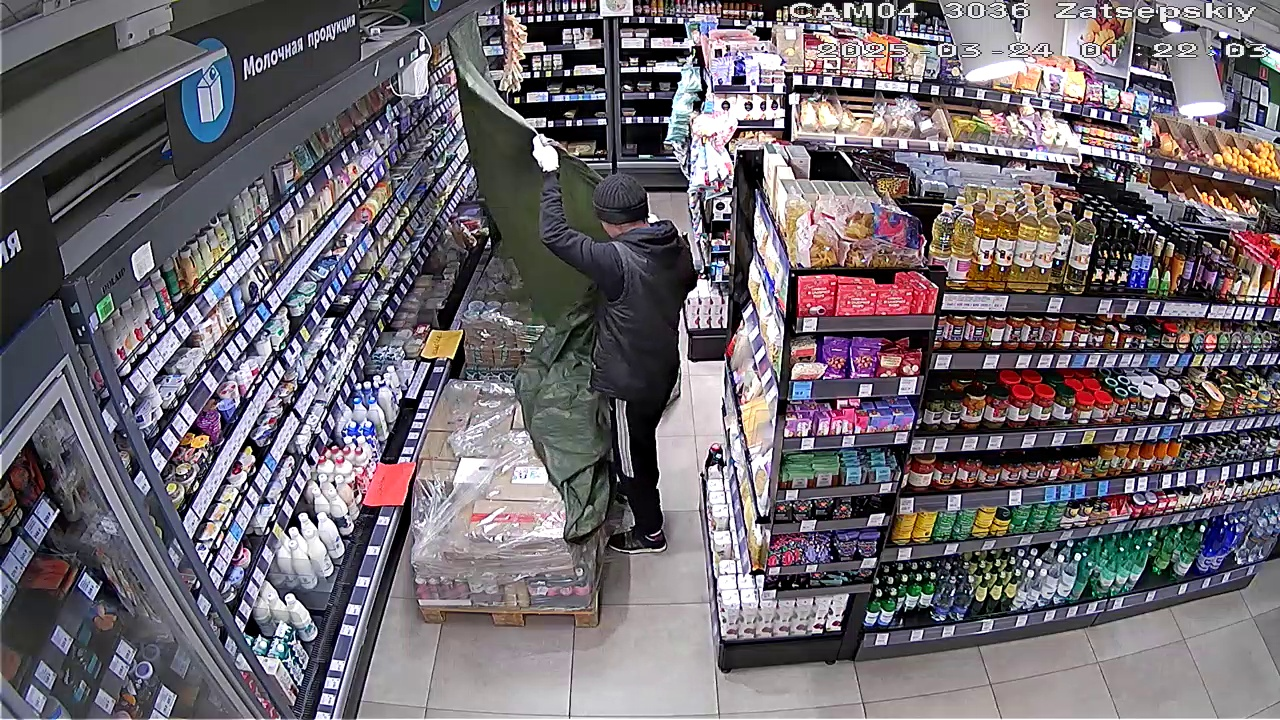Human: (529, 117, 685, 556)
pallet: (424, 374, 597, 622), (465, 242, 542, 367)
